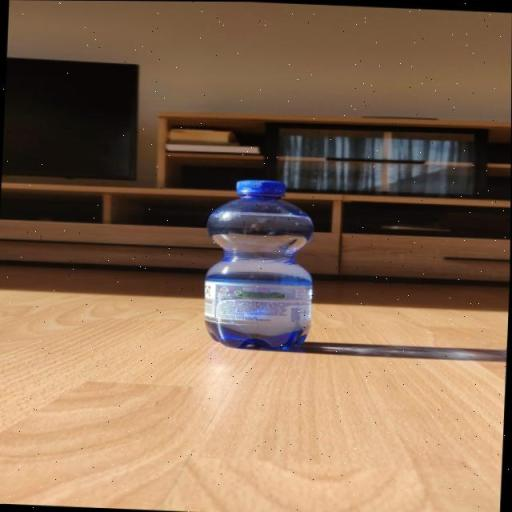plastic: (196, 174, 322, 352)
